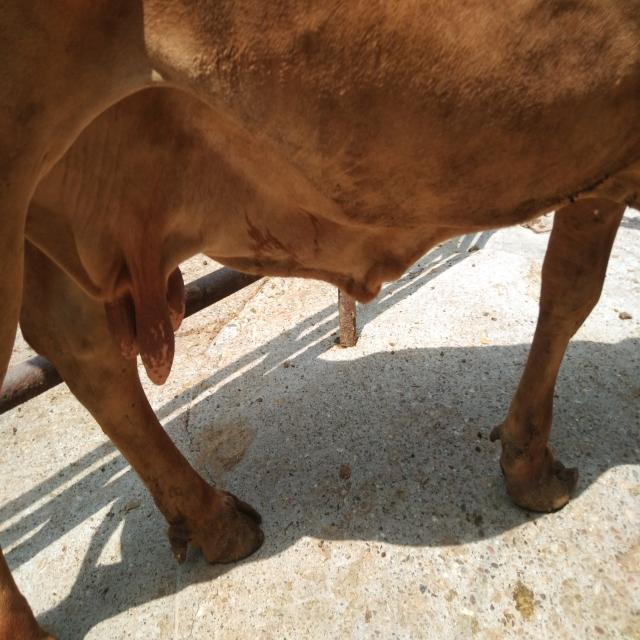Hoof: (489, 422, 579, 513), (166, 486, 264, 566)
